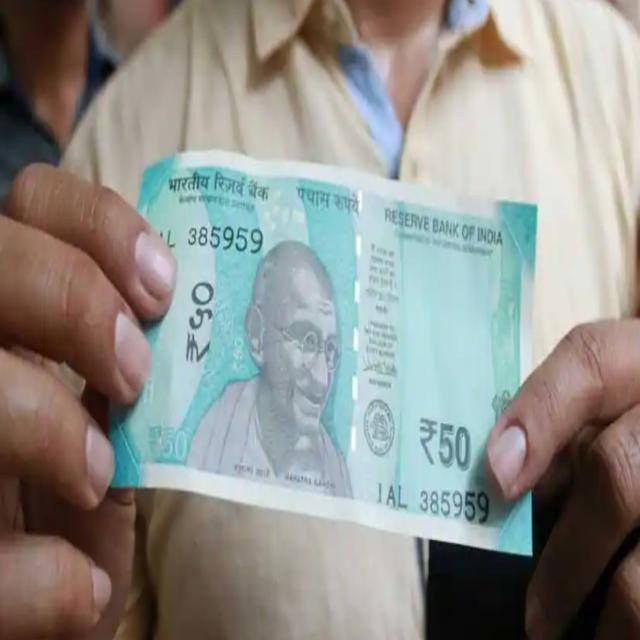50IndianRupees: (99, 182, 540, 557), (138, 159, 495, 545)
